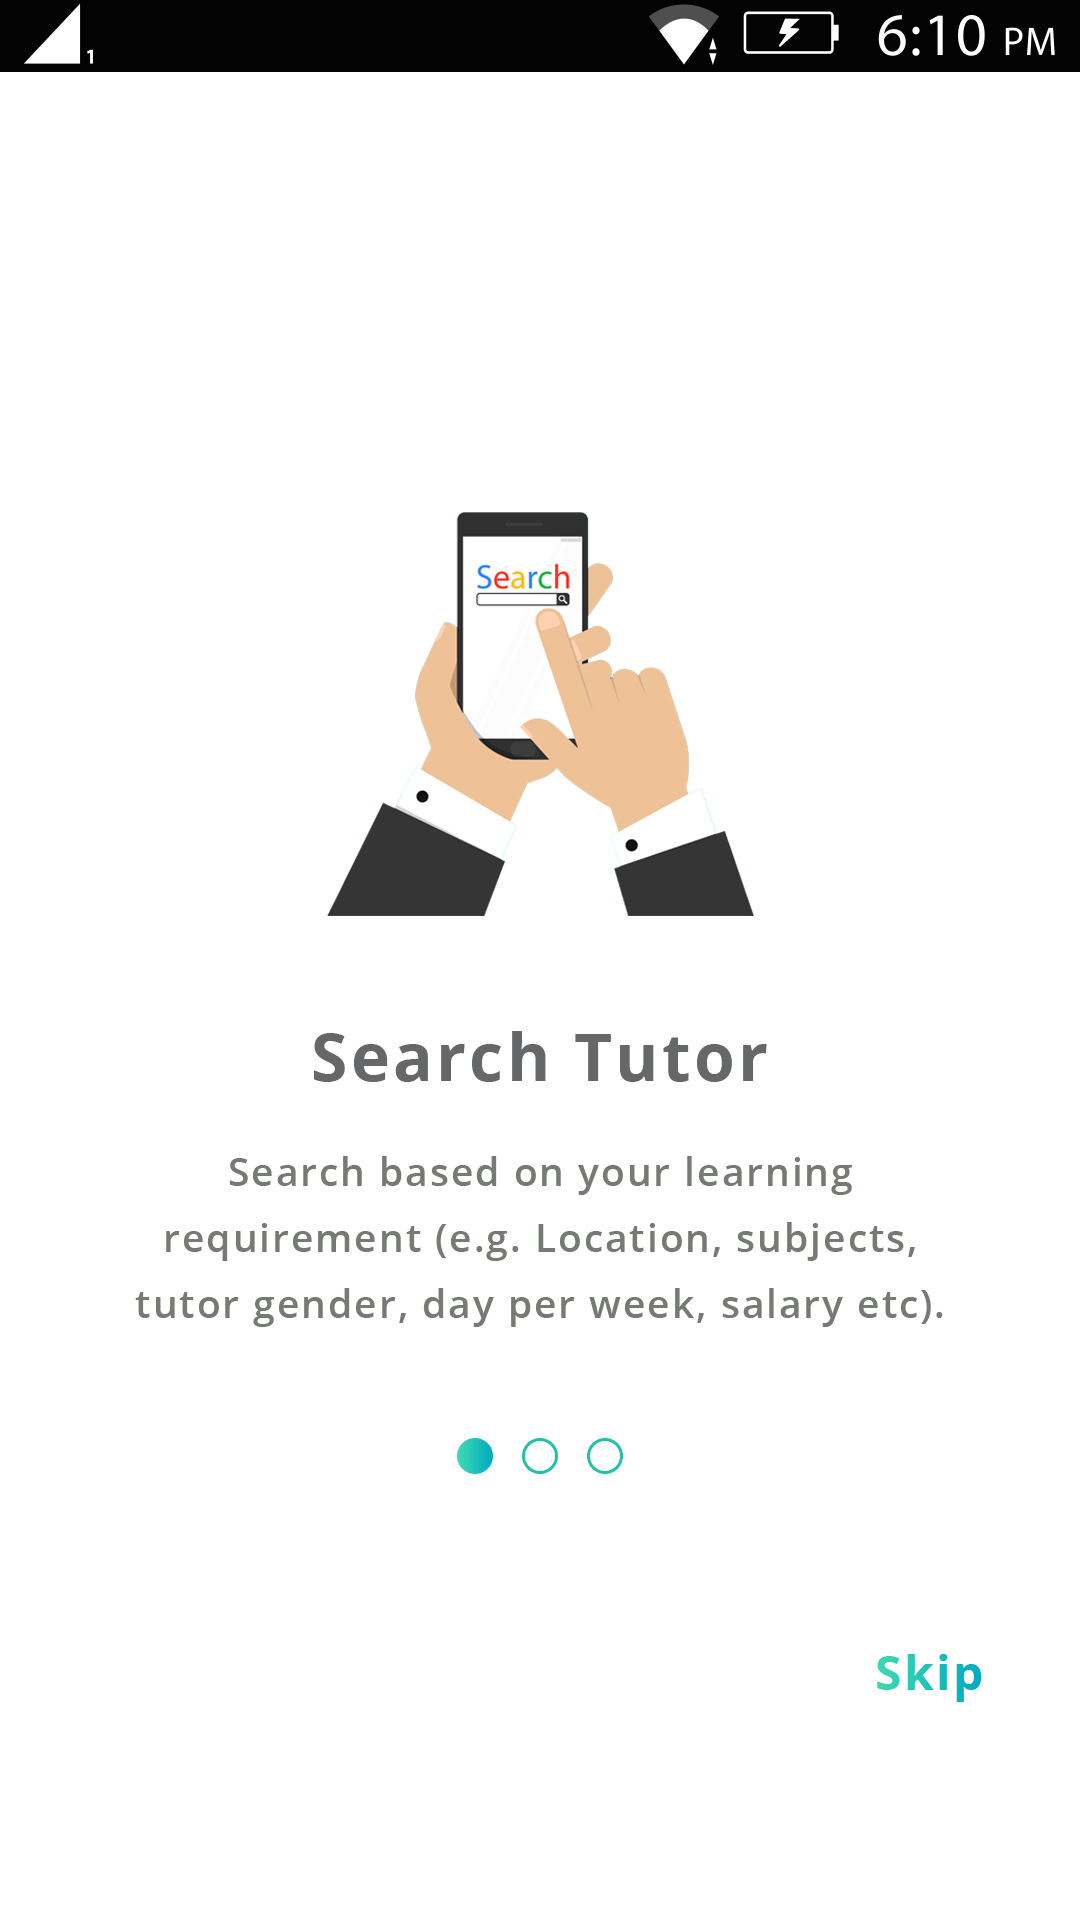Image: (326, 510, 756, 919)
PageIndicator: (456, 1436, 625, 1476)
Text: (133, 1153, 944, 1331), (311, 1029, 769, 1085), (876, 1652, 984, 1704)
UpperTaskBar: (1, 1, 1080, 73)
